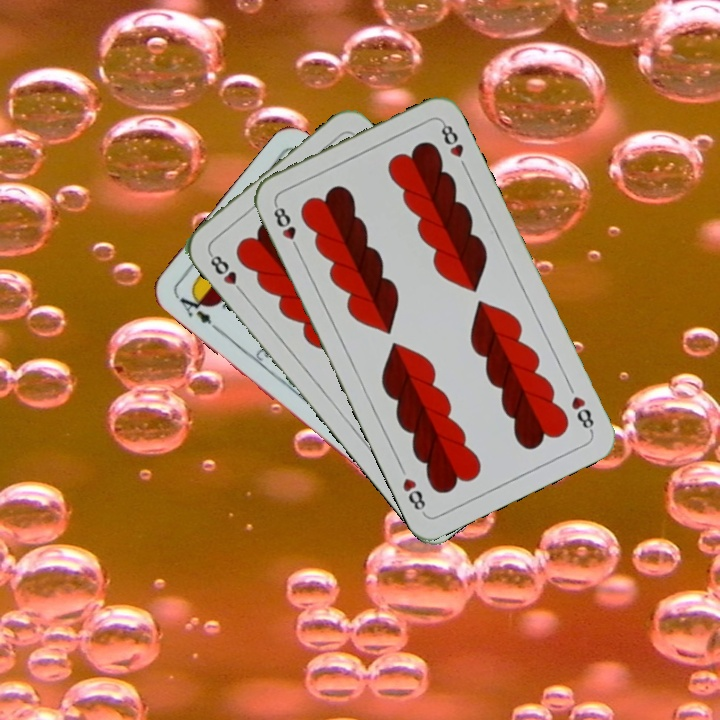EA: (172, 287, 215, 327)
H8: (205, 248, 248, 298), (269, 199, 303, 255), (567, 392, 597, 435)
